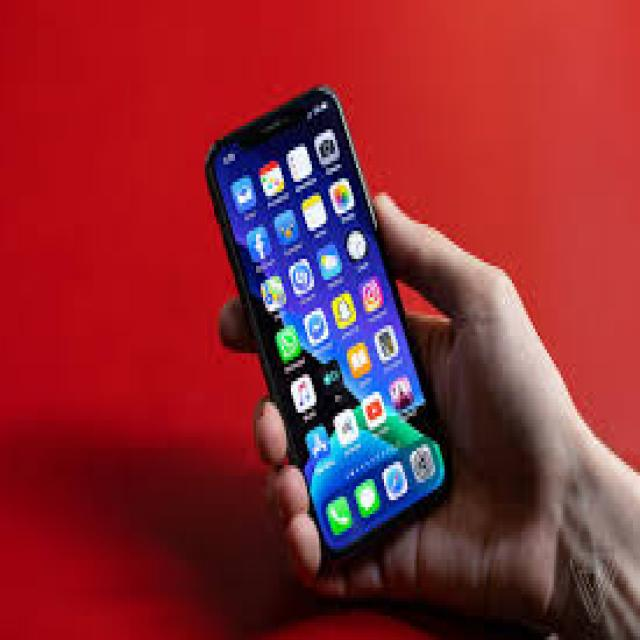device: (200, 77, 459, 549)
